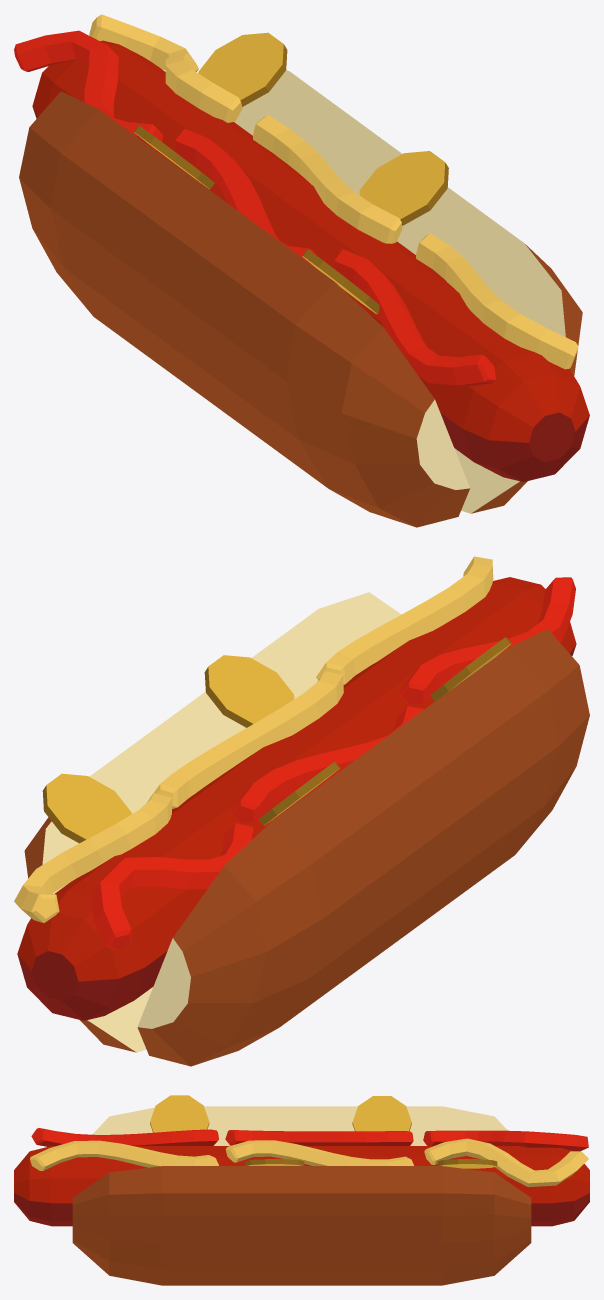
Rendered from Jocho3.glb.
3 views of the same model, one above another, from view 1: azimuth 30°, elevation 25°; view 2: azimuth 150°, elevation 25°; view 3: azimuth 270°, elevation 25° (orthographic). The views are drawn at different scales.
Visible parts, largest first — view 1: Cylinder; view 2: Cylinder; view 3: Cylinder.
Part boxes in pixels (x1,y1,x2,y2): Cylinder: [14, 14, 589, 527]; Cylinder: [14, 556, 589, 1066]; Cylinder: [14, 1095, 589, 1285].
Bounding box in the file's own units: 2.2 × 2.02 × 6.9.
1 material, 1 textured.
